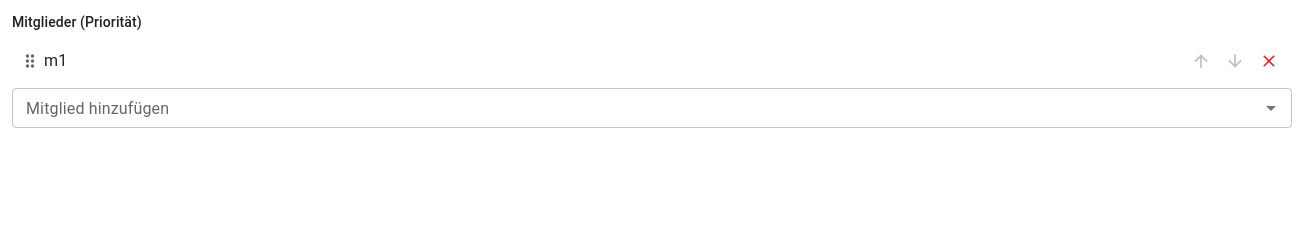
Scenario: appends a picked model at the lowest priority
Press the mouse on the dropdown labelled "Mitglied hinzufügen" at [636, 108], box [18,94,1253,122]
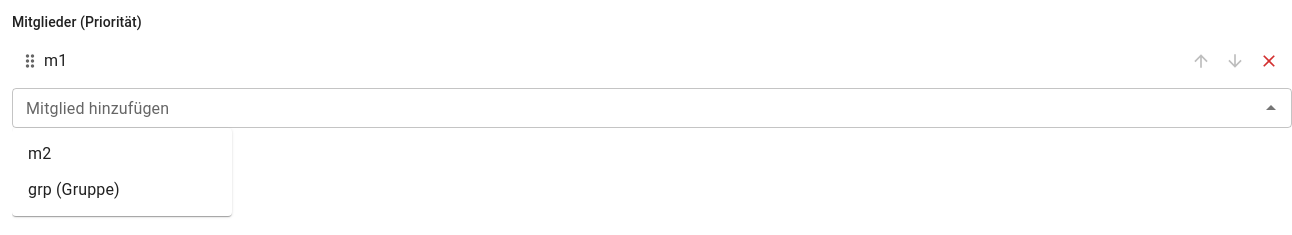
Click the option "m2".
click(40, 154)  # box [28,144,51,163]
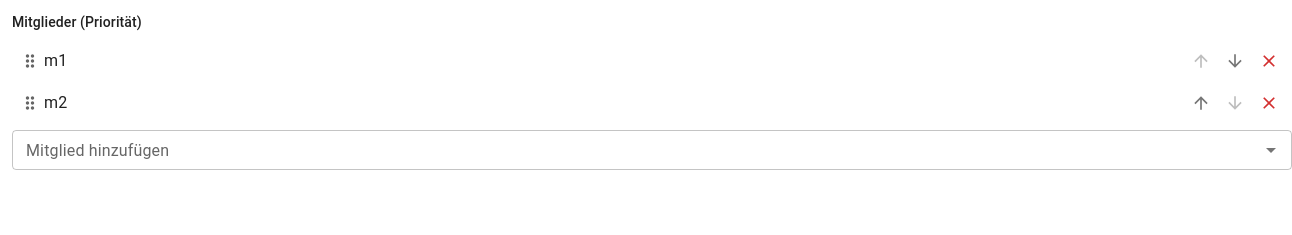
Now the text "m2" is shown, box [44,93,67,112]
Now the number of list items is 2, box [12,42,1291,80]; [12,84,1291,122]
